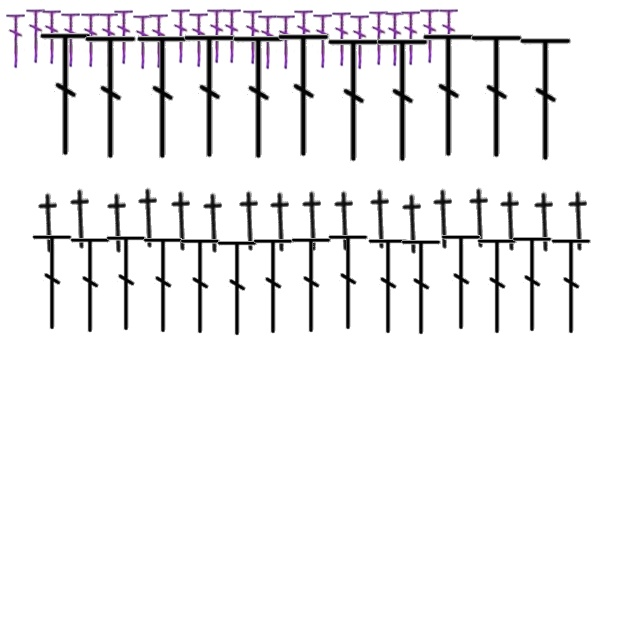double treble: (38, 28, 94, 160), (83, 31, 139, 163), (135, 31, 191, 163), (182, 30, 238, 162), (231, 31, 287, 163), (276, 29, 332, 161), (326, 34, 382, 166), (375, 34, 431, 166), (421, 29, 477, 161), (469, 30, 525, 162), (518, 33, 574, 165), (142, 234, 186, 336), (216, 237, 260, 339), (252, 235, 296, 337), (290, 234, 334, 336), (400, 236, 444, 338), (440, 231, 484, 333), (476, 235, 520, 337), (550, 235, 594, 337), (32, 231, 74, 333), (70, 234, 112, 336), (106, 232, 148, 334), (180, 235, 222, 337), (328, 231, 370, 333), (368, 235, 410, 337), (512, 233, 554, 335), (6, 11, 26, 69), (26, 6, 46, 64), (42, 7, 62, 65), (114, 7, 134, 65), (222, 6, 242, 64), (258, 12, 278, 70), (276, 12, 296, 70), (294, 7, 314, 65), (332, 9, 352, 67), (350, 12, 370, 70), (420, 6, 440, 64), (62, 10, 80, 68), (82, 10, 100, 68), (100, 10, 118, 68), (134, 12, 152, 70), (150, 11, 168, 69), (172, 6, 190, 64), (190, 10, 208, 68), (208, 6, 226, 64), (244, 7, 262, 65), (314, 11, 332, 69), (370, 8, 388, 66), (386, 9, 404, 67), (402, 8, 420, 66), (440, 6, 458, 64)
enseble_chain: (31, 192, 67, 254), (63, 188, 99, 250), (100, 192, 136, 254), (131, 187, 167, 249), (164, 190, 200, 252), (196, 192, 232, 254), (232, 190, 268, 252), (263, 191, 299, 253), (295, 190, 331, 252), (327, 190, 363, 252), (363, 188, 399, 250), (395, 193, 431, 255), (426, 188, 462, 250), (462, 187, 498, 249), (493, 190, 529, 252), (527, 191, 563, 253), (561, 190, 597, 252)
